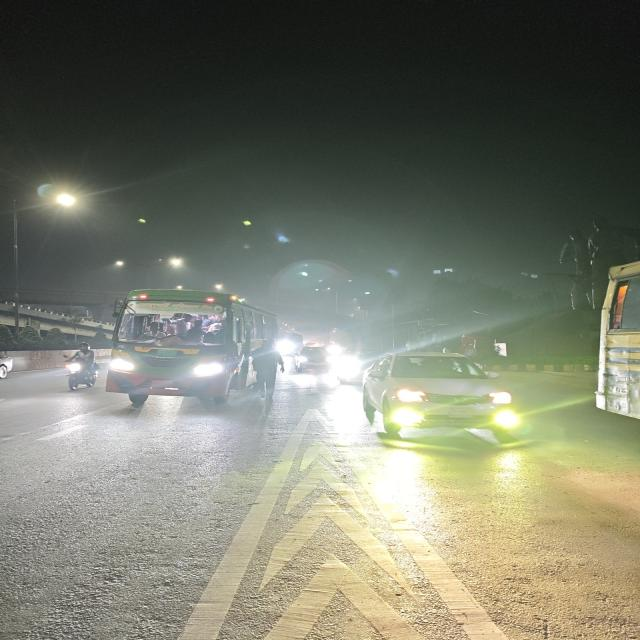bus: (108, 288, 276, 409)
car: (356, 348, 528, 446), (290, 338, 342, 384)
motorcycle: (56, 346, 101, 394)
